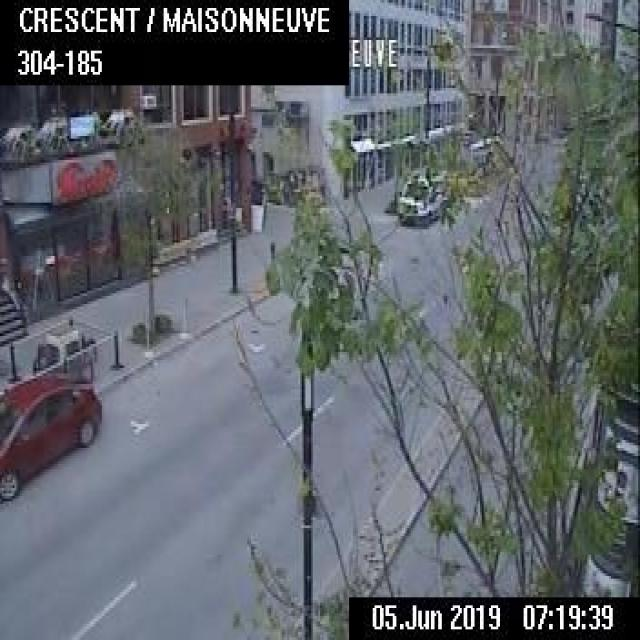vehicle: (0, 368, 102, 499), (395, 166, 450, 224)
